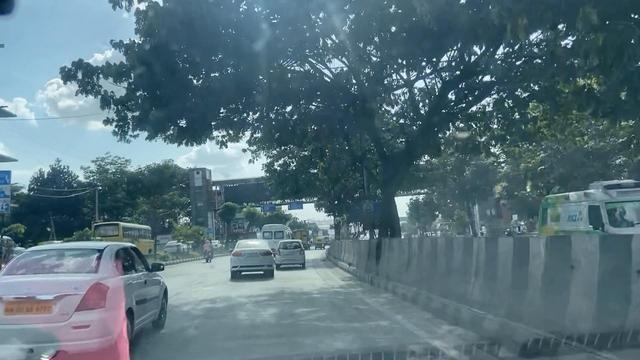LMV: (0, 255, 140, 360), (229, 236, 274, 280), (278, 239, 307, 271)
